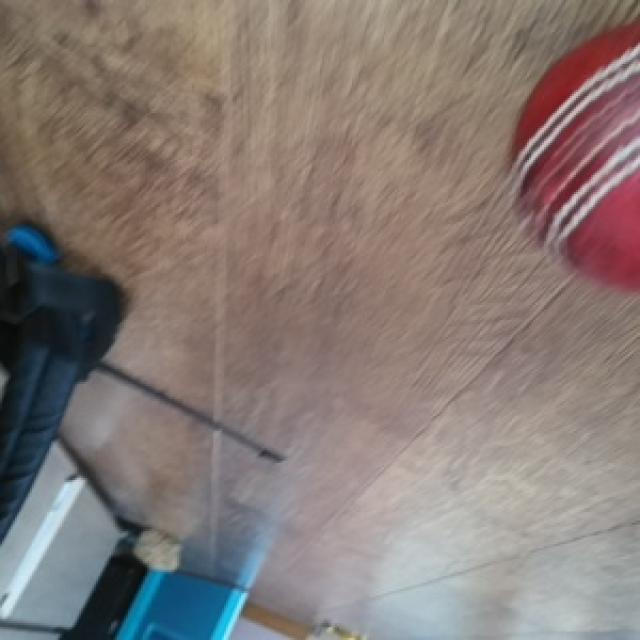ball: (512, 17, 640, 297)
